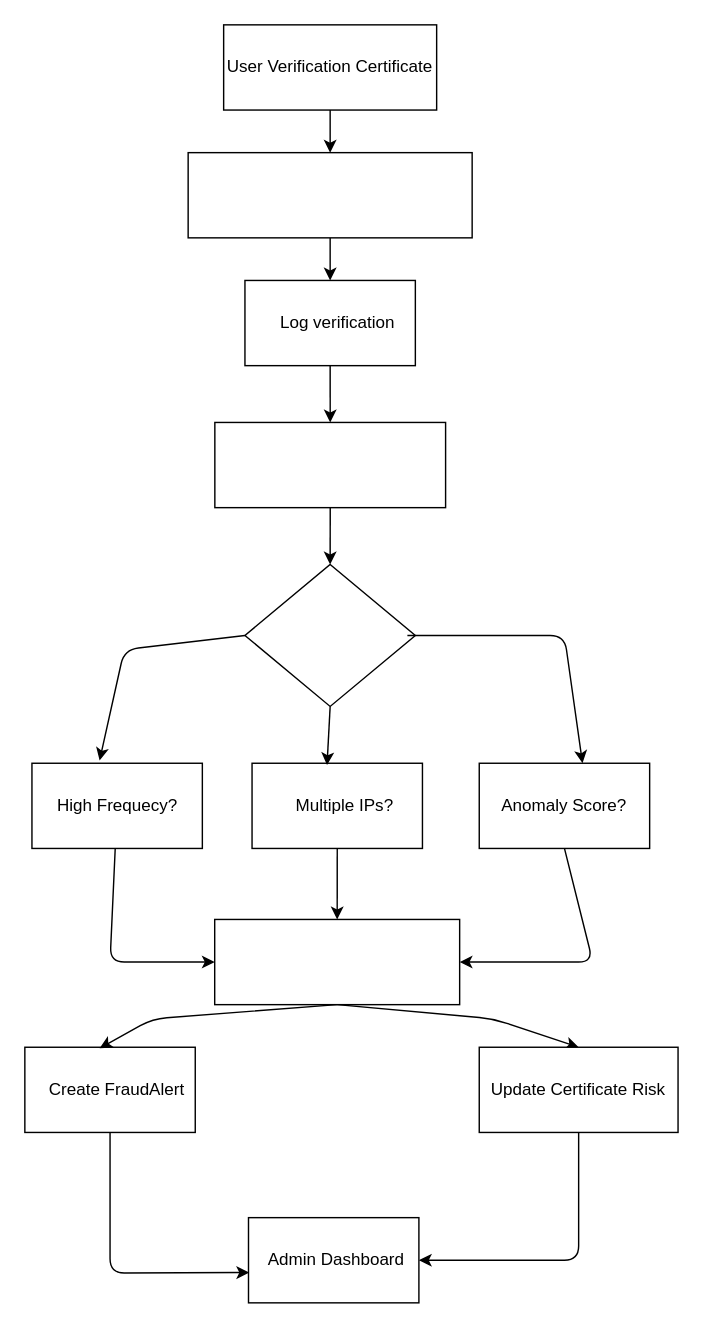
Image size: 703x1328. Some labels were removed from this diagram. The box of each missing label's shape, as (x1, y1, x2, y2) in pixels:
Analyze Pattern: (244, 563, 415, 706)
Calculate Risk Level: (213, 918, 460, 1005)
Fraud Detection Service: (213, 421, 446, 508)
getCertificateById controller: (187, 151, 472, 238)
